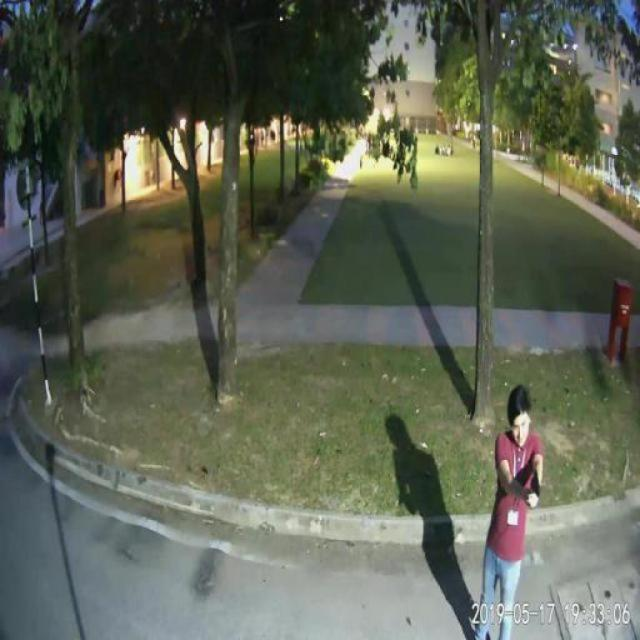pistol: (528, 466, 538, 506)
